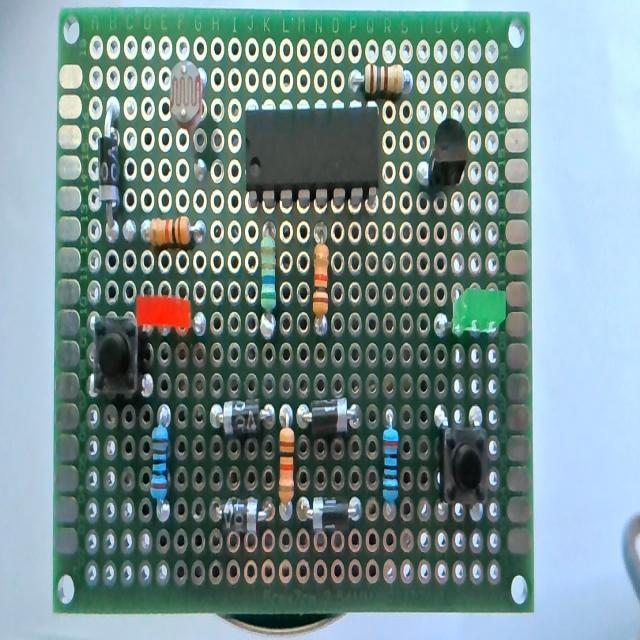IC: (244, 108, 382, 201)
cds: (168, 59, 206, 170)
diode: (100, 102, 120, 221), (299, 398, 357, 436), (212, 401, 274, 436), (216, 497, 274, 533), (305, 497, 361, 531)
led: (436, 286, 506, 338), (136, 292, 192, 331)
resistor: (259, 224, 277, 338), (349, 65, 410, 98), (150, 409, 170, 505), (278, 408, 295, 509), (142, 218, 203, 246), (383, 412, 399, 504), (312, 232, 328, 324)
switch: (433, 402, 488, 514), (92, 316, 140, 395)
transistor: (427, 118, 467, 188)
